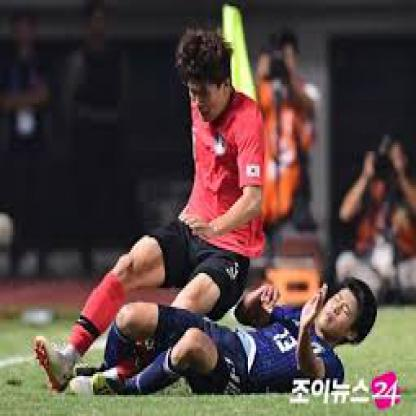Fall_Down: (31, 28, 268, 398)
